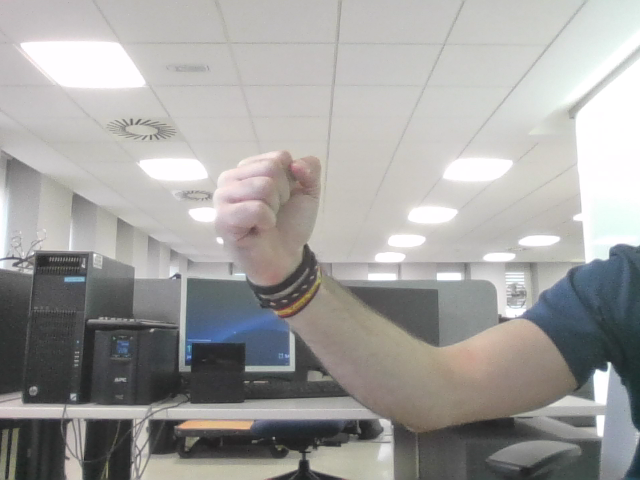Puño: (224, 158, 309, 224)
